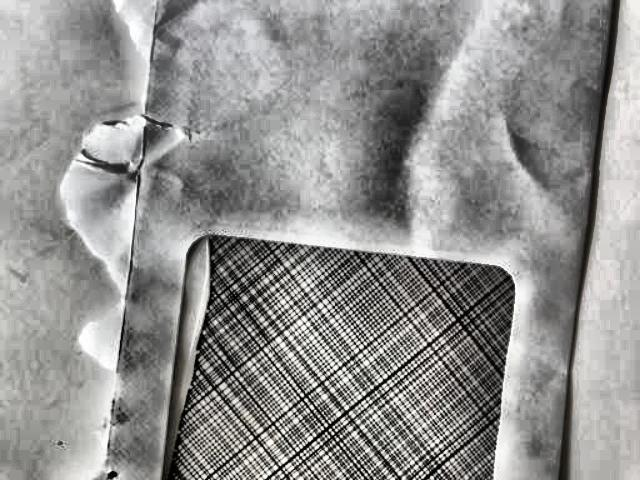Paper: (52, 0, 598, 480)
